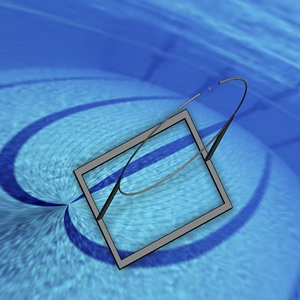circle: (72, 74, 248, 270)
